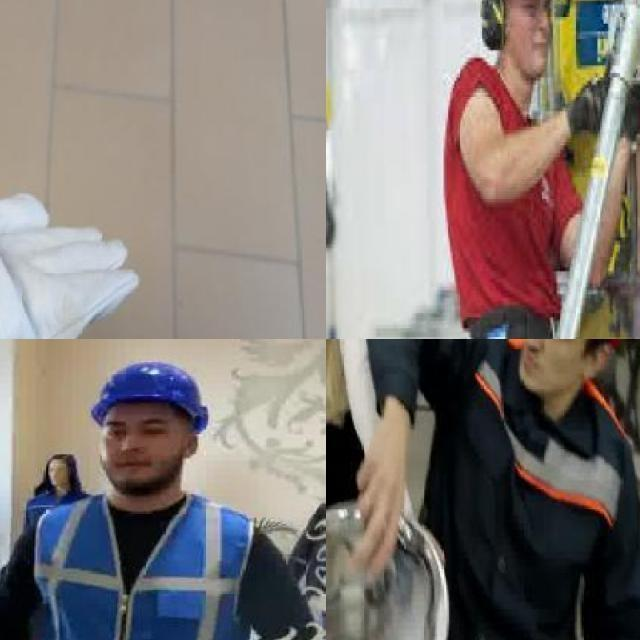apron: (0, 51, 145, 339)
